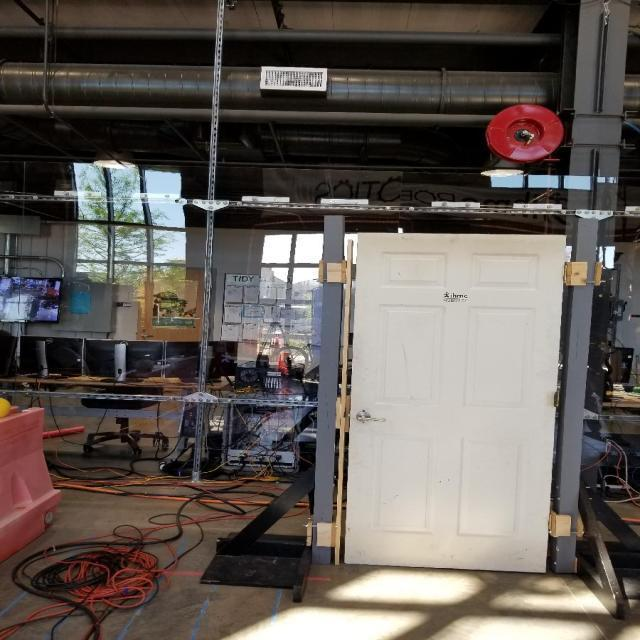door: (342, 229, 568, 577), (353, 410, 387, 426)
